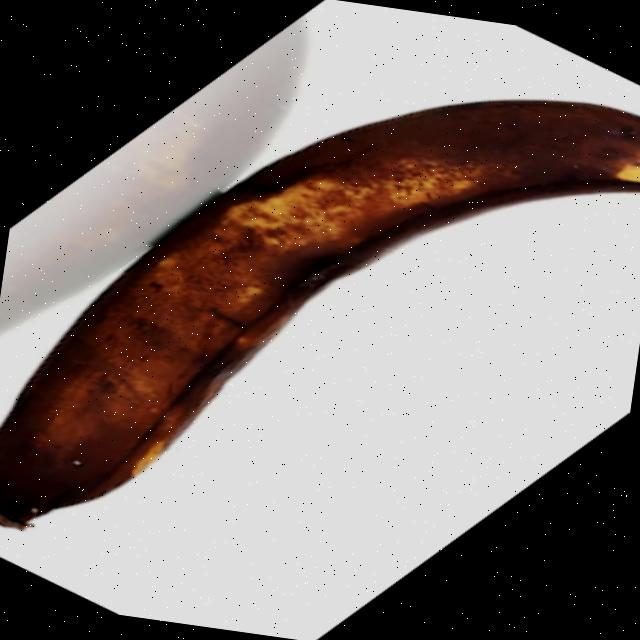Rotten: (0, 23, 640, 612)
